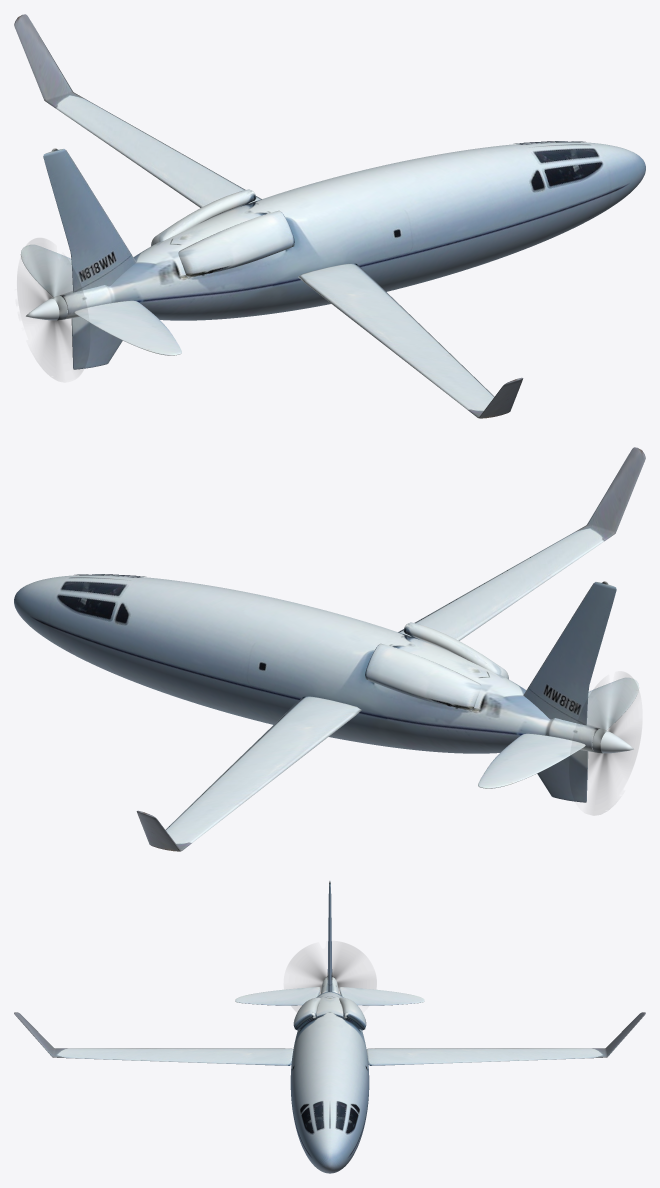
3 renders of one model, top to bottom at view 1: azimuth 30°, elevation 25°; view 2: azimuth 150°, elevation 25°; view 3: azimuth 270°, elevation 25°, orthographic. The views are drawn at different scales.
Parts seen in each view (by area): view 1: bodyObj, Sphere.003, Sphere.001, Sphere.002, Sphere.004, Circle, Sphere.006, Sphere.005; view 2: bodyObj, Sphere.003, Sphere.001, Sphere.002, Sphere.004, Circle, Sphere.006, Sphere.005; view 3: bodyObj, Sphere.003, Sphere.004, Sphere.006, Circle, Sphere.002, Sphere.001.
Boxes of the visible parts, box(x1,y1,x2,y2) form: bodyObj: box(60, 142, 645, 320); Sphere.003: box(14, 14, 523, 418); Sphere.001: box(43, 148, 136, 369); Sphere.002: box(151, 189, 294, 277); Sphere.004: box(20, 244, 181, 355); Circle: box(25, 253, 80, 363); Sphere.006: box(513, 141, 603, 191); Sphere.005: box(26, 295, 67, 320); bodyObj: box(14, 575, 599, 753); Sphere.003: box(136, 447, 645, 851); Sphere.001: box(523, 581, 616, 802); Sphere.002: box(365, 622, 508, 710); Sphere.004: box(478, 677, 639, 788); Circle: box(577, 688, 633, 799); Sphere.006: box(56, 574, 146, 624); Sphere.005: box(592, 728, 633, 753); bodyObj: box(290, 979, 369, 1173); Sphere.003: box(14, 1012, 645, 1065); Sphere.004: box(235, 987, 424, 1005); Sphere.006: box(300, 1100, 359, 1134); Circle: box(298, 951, 366, 993); Sphere.002: box(293, 997, 366, 1030); Sphere.001: box(327, 881, 332, 991).
Bounding box in the file's own units: 288 × 102 × 401.
4 materials, 4 textured.
